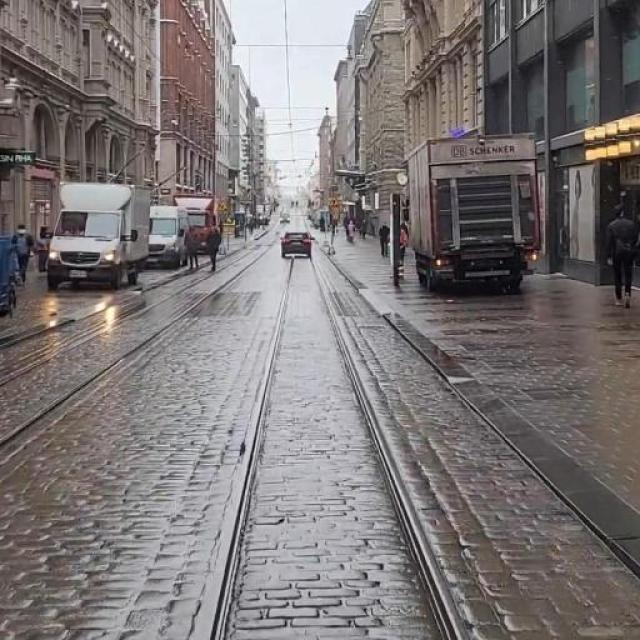people: (605, 201, 640, 309), (13, 220, 38, 284), (205, 222, 226, 277), (183, 221, 202, 270)
vehicle: (403, 128, 550, 295), (45, 177, 156, 286), (149, 201, 192, 266), (274, 228, 318, 263)
